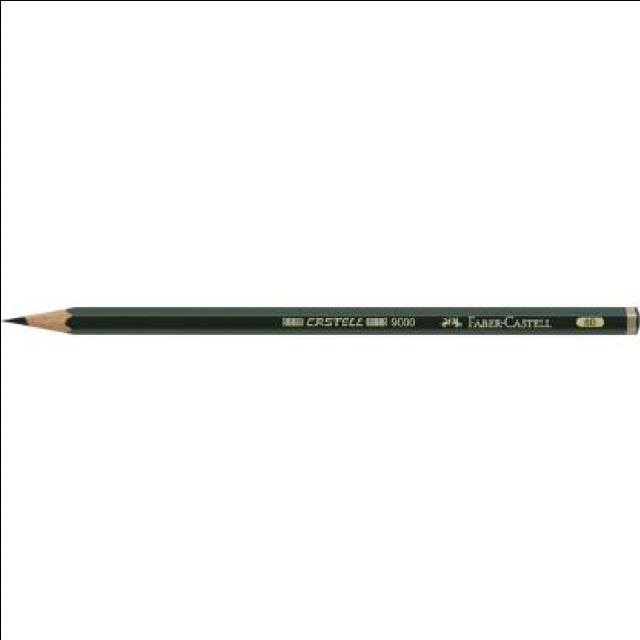pencil: (0, 292, 91, 346)
